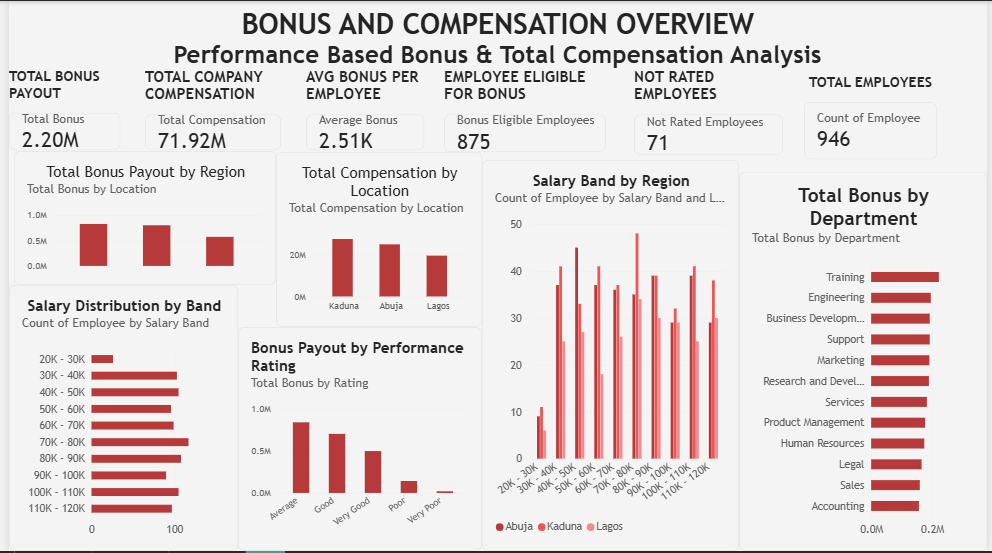

The page's visual inventory and layout, read from the dashboard file:
{"tool":"powerbi","page":{"name":"Page 2","canvas":[1280,720],"ordinal":1},"visuals":[{"type":"clusteredColumnChart","title":"Total Bonus Payout by Region","fields":{"Category":["Palmoria Group emp-data raw (2).Location"],"Y":["Bonus Rules.Total Bonus"]},"box":[6.5,196.4,343,175.4],"z":0},{"type":"clusteredColumnChart","title":"Total Compensation by Location","fields":{"Y":["Bonus Rules.Total Compensation"],"Category":["Palmoria Group emp-data raw (2).Location"]},"box":[349.5,197.7,269.7,229.1],"z":1000},{"type":"textbox","box":[0,7.9,1279,86.4],"z":2000},{"type":"cardVisual","title":"TOTAL BONUS PAYOUT","fields":{"Data":["Bonus Rules.Total Bonus"]},"box":[0,86.4,146.6,110],"z":3000},{"type":"cardVisual","title":"TOTAL COMPANY COMPENSATION","fields":{"Data":["Bonus Rules.Total Compensation"]},"box":[178,86.4,178,110],"z":4000},{"type":"cardVisual","title":"AVG BONUS PER EMPLOYEE","fields":{"Data":["Palmoria Group emp-data raw (2).AVERAGE Bonus"]},"box":[388.8,86.4,155.8,110],"z":5000},{"type":"cardVisual","title":"EMPLOYEE ELIGIBLE FOR BONUS","fields":{"Data":["Palmoria Group emp-data raw (2).Bonus Eligible Employees"]},"box":[569.5,86.4,212.1,111.3],"z":6000},{"type":"cardVisual","title":"NOT RATED EMPLOYEES","fields":{"Data":["Palmoria Group emp-data raw (2).Not Rated Employees"]},"box":[818.2,86.4,195.4,115.1],"z":7000},{"type":"cardVisual","title":"TOTAL EMPLOYEES","fields":{"Data":["CountNonNull(Palmoria Group emp-data raw (2).Employee ID)"]},"box":[1040.7,94.3,174.1,113.9],"z":8000},{"type":"clusteredBarChart","title":"Total Bonus by Department","fields":{"Category":["Palmoria Group emp-data raw (2).Department"],"Y":["Bonus Rules.Total Bonus"]},"box":[955.6,223.9,324.7,496.1],"z":9000},{"type":"clusteredColumnChart","title":"Bonus Payout by Performance Rating","fields":{"Category":["Palmoria Group emp-data raw (2).Rating"],"Y":["Bonus Rules.Total Bonus"]},"box":[299.8,426.8,319.4,293.2],"z":10000},{"type":"lineClusteredColumnComboChart","title":"Salary Band by Region","fields":{"Category":["Palmoria Group emp-data raw (2).Salary Band"],"Series":["Palmoria Group emp-data raw (2).Location"],"Y":["CountNonNull(Palmoria Group emp-data raw (2).Employee)"]},"box":[619.2,208.1,336.4,511.9],"z":11000},{"type":"clusteredBarChart","title":"Salary Distribution by Band","fields":{"Category":["Palmoria Group emp-data raw (2).Salary Band"],"Y":["CountNonNull(Palmoria Group emp-data raw (2).Employee)"]},"box":[0,371.4,300,348.6],"z":12000}]}

Visuals, with their boxes in screenshot pixels (x1, y1, x2, y2), scaled from the page's 1280x720 canvas onto the 992x553 screenshot:
"Total Bonus Payout by Region" clusteredColumnChart: [5, 151, 271, 286]
"Total Compensation by Location" clusteredColumnChart: [271, 152, 480, 328]
textbox: [0, 6, 991, 72]
"TOTAL BONUS PAYOUT" cardVisual: [0, 66, 114, 151]
"TOTAL COMPANY COMPENSATION" cardVisual: [138, 66, 276, 151]
"AVG BONUS PER EMPLOYEE" cardVisual: [301, 66, 422, 151]
"EMPLOYEE ELIGIBLE FOR BONUS" cardVisual: [441, 66, 606, 152]
"NOT RATED EMPLOYEES" cardVisual: [634, 66, 786, 155]
"TOTAL EMPLOYEES" cardVisual: [807, 72, 941, 160]
"Total Bonus by Department" clusteredBarChart: [741, 172, 991, 552]
"Bonus Payout by Performance Rating" clusteredColumnChart: [232, 328, 480, 552]
"Salary Band by Region" lineClusteredColumnComboChart: [480, 160, 741, 552]
"Salary Distribution by Band" clusteredBarChart: [0, 285, 232, 552]
